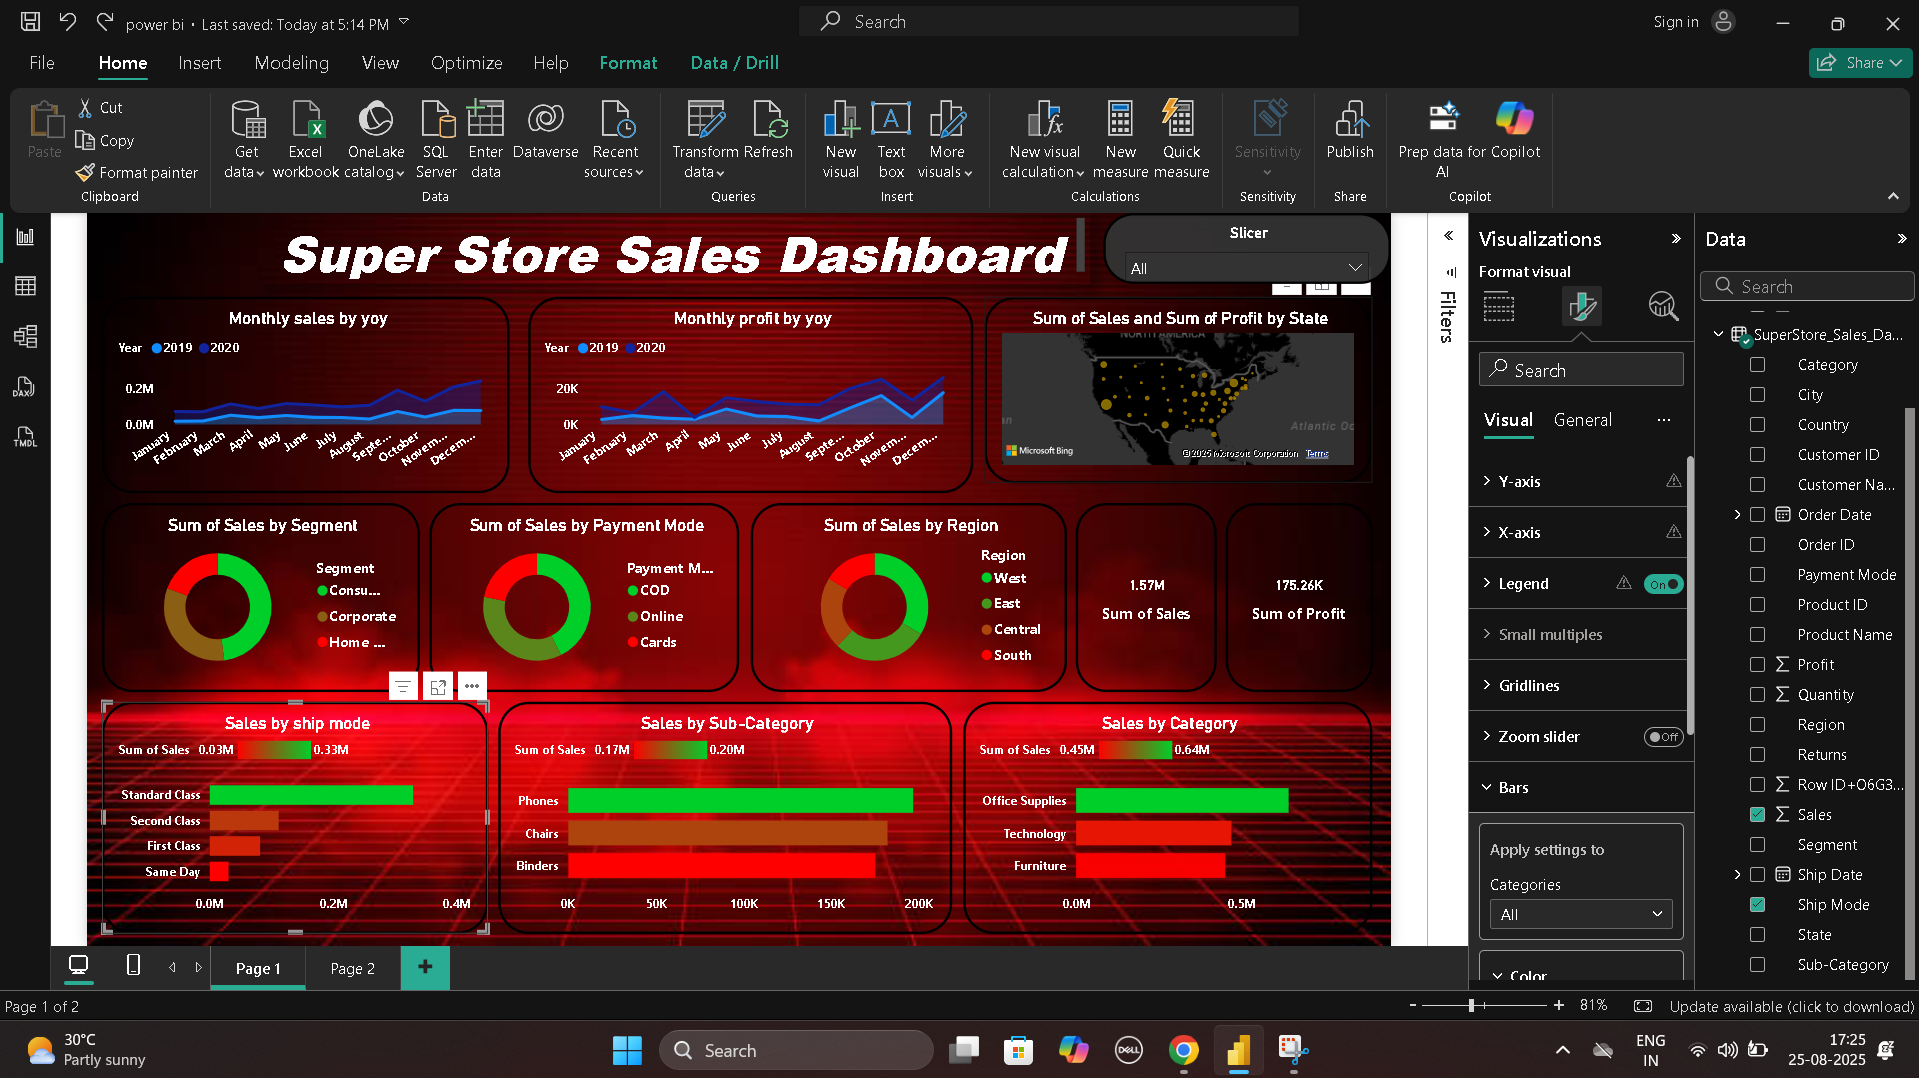

What the dashboard file says about the page in this screenshot:
{"tool":"powerbi","page":{"name":"Dashboard","canvas":[1280,720],"ordinal":0},"visuals":[{"type":"clusteredBarChart","title":" Sales by Category","fields":{"Category":["SuperStore_Sales_Dataset.Category"],"Y":["Sum(SuperStore_Sales_Dataset.Sales)"]},"box":[860.1,479.8,401.2,228.2],"z":0},{"type":"clusteredBarChart","title":" Sales by Sub-Category","fields":{"Y":["Sum(SuperStore_Sales_Dataset.Sales)"],"Category":["SuperStore_Sales_Dataset.Sub-Category"]},"box":[403.7,479.8,445.4,228.2],"z":1000},{"type":"clusteredBarChart","title":" Sales by ship mode","fields":{"Y":["Sum(SuperStore_Sales_Dataset.Sales)"],"Category":["SuperStore_Sales_Dataset.Ship Mode"]},"box":[14.7,479.8,379.1,228.2],"z":2000},{"type":"stackedAreaChart","title":"Monthly sales by yoy","fields":{"Y":["Sum(SuperStore_Sales_Dataset.Sales)"],"Series":["SuperStore_Sales_Dataset.Order Date.Variation.Date Hierarchy.Year"],"Category":["SuperStore_Sales_Dataset.Order Date.Variation.Date Hierarchy.Month"]},"box":[14.7,82.2,400,192.6],"z":3000},{"type":"stackedAreaChart","title":"Monthly profit by yoy","fields":{"Series":["SuperStore_Sales_Dataset.Order Date.Variation.Date Hierarchy.Year"],"Category":["SuperStore_Sales_Dataset.Order Date.Variation.Date Hierarchy.Month"],"Y":["Sum(SuperStore_Sales_Dataset.Profit)"]},"box":[433.1,82.2,436.8,192.6],"z":4000},{"type":"map","fields":{"Category":["SuperStore_Sales_Dataset.State"],"Size":["Sum(SuperStore_Sales_Dataset.Sales)"]},"box":[881,82.2,380.4,192.6],"z":5000},{"type":"donutChart","fields":{"Category":["SuperStore_Sales_Dataset.Segment"],"Y":["Sum(SuperStore_Sales_Dataset.Sales)"]},"box":[14.7,284.7,311.7,185.3],"z":6000},{"type":"donutChart","fields":{"Y":["Sum(SuperStore_Sales_Dataset.Sales)"],"Category":["SuperStore_Sales_Dataset.Payment Mode"]},"box":[336.2,284.7,304.3,185.3],"z":7000},{"type":"slicer","title":"Slicer","fields":{"Values":["SuperStore_Sales_Dataset.Region","SuperStore_Sales_Dataset.Sales"]},"box":[997.6,0,282.2,69.9],"z":8000},{"type":"donutChart","fields":{"Y":["Sum(SuperStore_Sales_Dataset.Sales)"],"Category":["SuperStore_Sales_Dataset.Region"]},"box":[651.5,284.7,310.4,185.3],"z":9000},{"type":"card","fields":{"Values":["Sum(SuperStore_Sales_Dataset.Sales)"]},"box":[970.6,284.7,138.7,185.3],"z":10000},{"type":"card","fields":{"Values":["Sum(SuperStore_Sales_Dataset.Profit)"]},"box":[1117.8,284.7,144.8,185.3],"z":11000},{"type":"textbox","box":[170.6,0,813.5,69.9],"z":12000}]}

Visuals, with their boxes on the page's 1280x720 design canvas (x1, y1, x2, y2). These are canvas units, not pixel positions in the 1919x1078 screenshot, which may show the page scaled, cropped or inside an application window:
" Sales by Category" clusteredBarChart: (x1=860, y1=480, x2=1261, y2=708)
" Sales by Sub-Category" clusteredBarChart: (x1=404, y1=480, x2=849, y2=708)
" Sales by ship mode" clusteredBarChart: (x1=15, y1=480, x2=394, y2=708)
"Monthly sales by yoy" stackedAreaChart: (x1=15, y1=82, x2=415, y2=275)
"Monthly profit by yoy" stackedAreaChart: (x1=433, y1=82, x2=870, y2=275)
map - SuperStore_Sales_Dataset.State x Sum(SuperStore_Sales_Dataset.Sales): (x1=881, y1=82, x2=1261, y2=275)
donutChart - SuperStore_Sales_Dataset.Segment x Sum(SuperStore_Sales_Dataset.Sales): (x1=15, y1=285, x2=326, y2=470)
donutChart - Sum(SuperStore_Sales_Dataset.Sales) x SuperStore_Sales_Dataset.Payment Mode: (x1=336, y1=285, x2=640, y2=470)
"Slicer" slicer: (x1=998, y1=0, x2=1280, y2=70)
donutChart - Sum(SuperStore_Sales_Dataset.Sales) x SuperStore_Sales_Dataset.Region: (x1=652, y1=285, x2=962, y2=470)
card - Sum(SuperStore_Sales_Dataset.Sales): (x1=971, y1=285, x2=1109, y2=470)
card - Sum(SuperStore_Sales_Dataset.Profit): (x1=1118, y1=285, x2=1263, y2=470)
textbox: (x1=171, y1=0, x2=984, y2=70)
